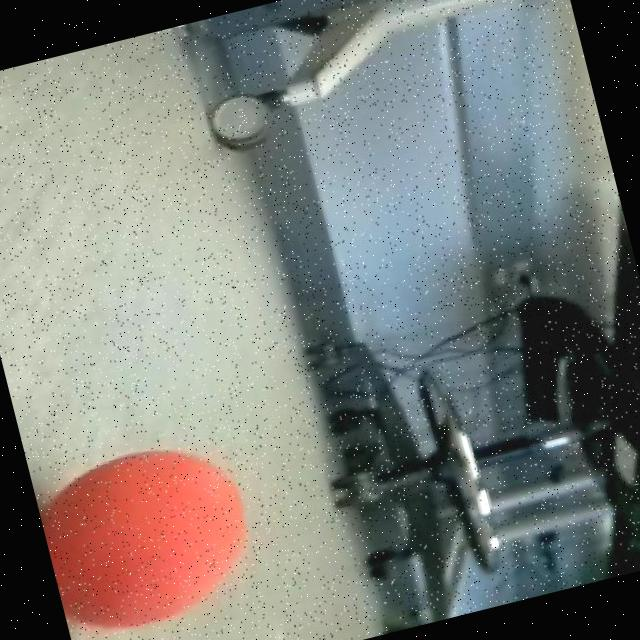ping-pong-ball: (28, 423, 274, 640)
